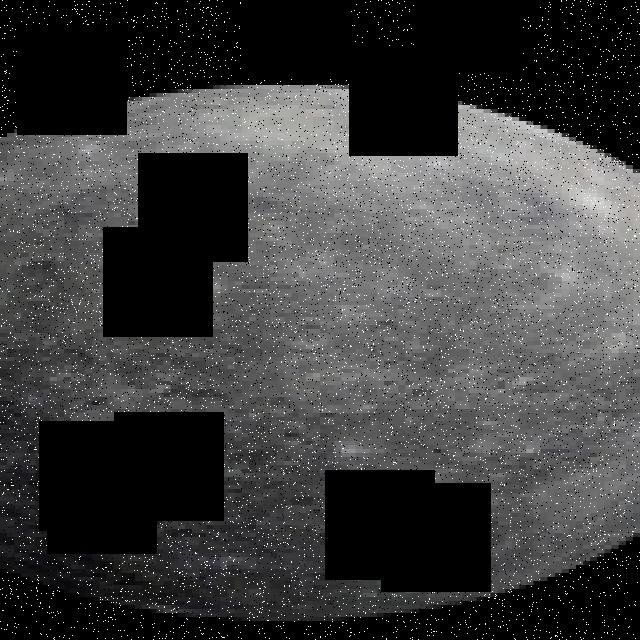Mercury: (0, 84, 640, 624)
